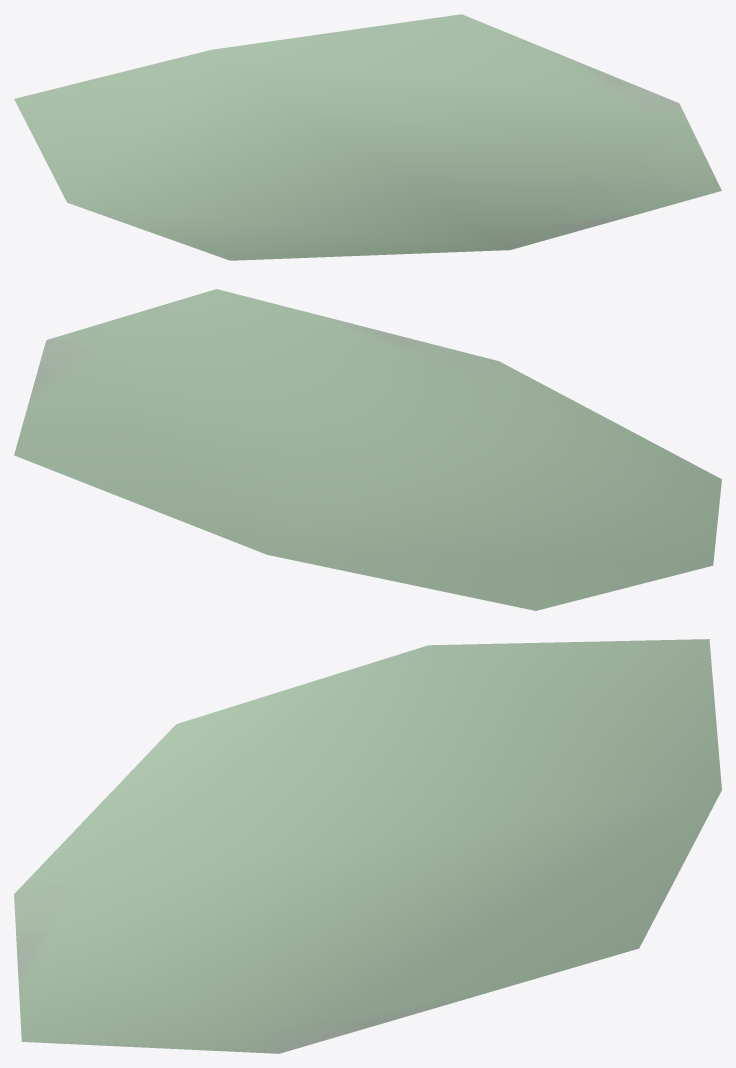
File: TROLLHOLE02_HOLECAP69.fbx
3 views of the same model, one above another, from view 1: azimuth 30°, elevation 25°; view 2: azimuth 150°, elevation 25°; view 3: azimuth 270°, elevation 25° (orthographic). The views are drawn at different scales.
Parts seen in each view (by area): view 1: TROLLHOLE02_HOLECAP69; view 2: TROLLHOLE02_HOLECAP69; view 3: TROLLHOLE02_HOLECAP69.
Part boxes in pixels (x1,y1,x2,y2): TROLLHOLE02_HOLECAP69: (14, 14, 721, 260); TROLLHOLE02_HOLECAP69: (14, 289, 721, 610); TROLLHOLE02_HOLECAP69: (14, 639, 721, 1053).
Size of the model in its own units: 27387 by 2039 by 20119.
1 material, 1 textured.
